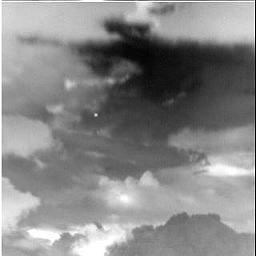Target: (93, 112, 99, 118)
